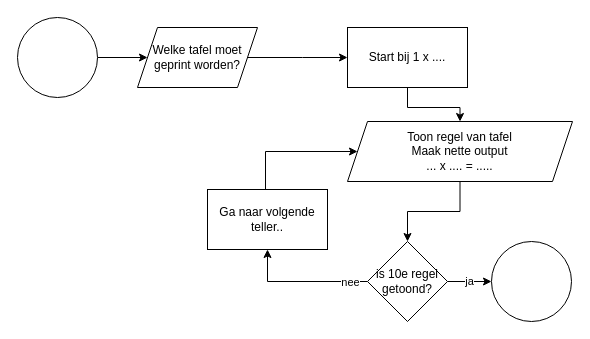
The diagram is 590 pixels wide and 339 high, and some of its shapes have lost their labels. Each missing label, with the centre of its shape:
einde: the point at 531,281
Start: the point at 57,57
